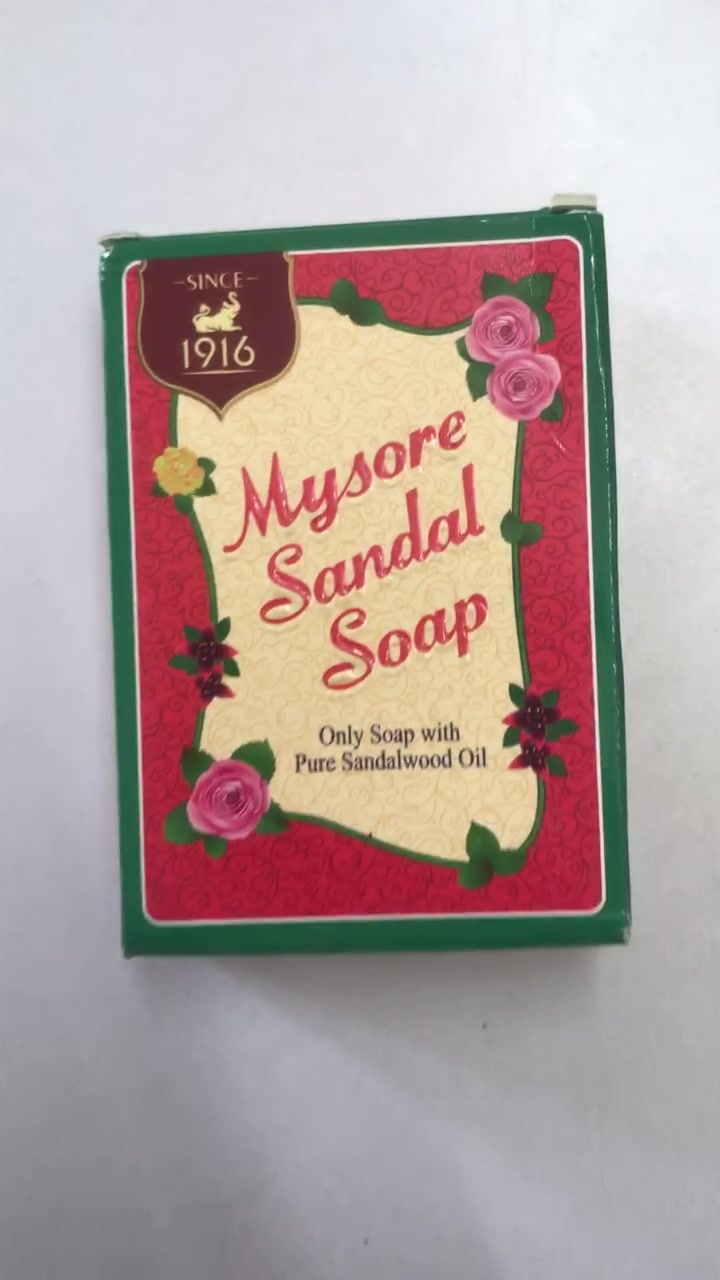mysore sandal soap: (110, 248, 620, 941)
